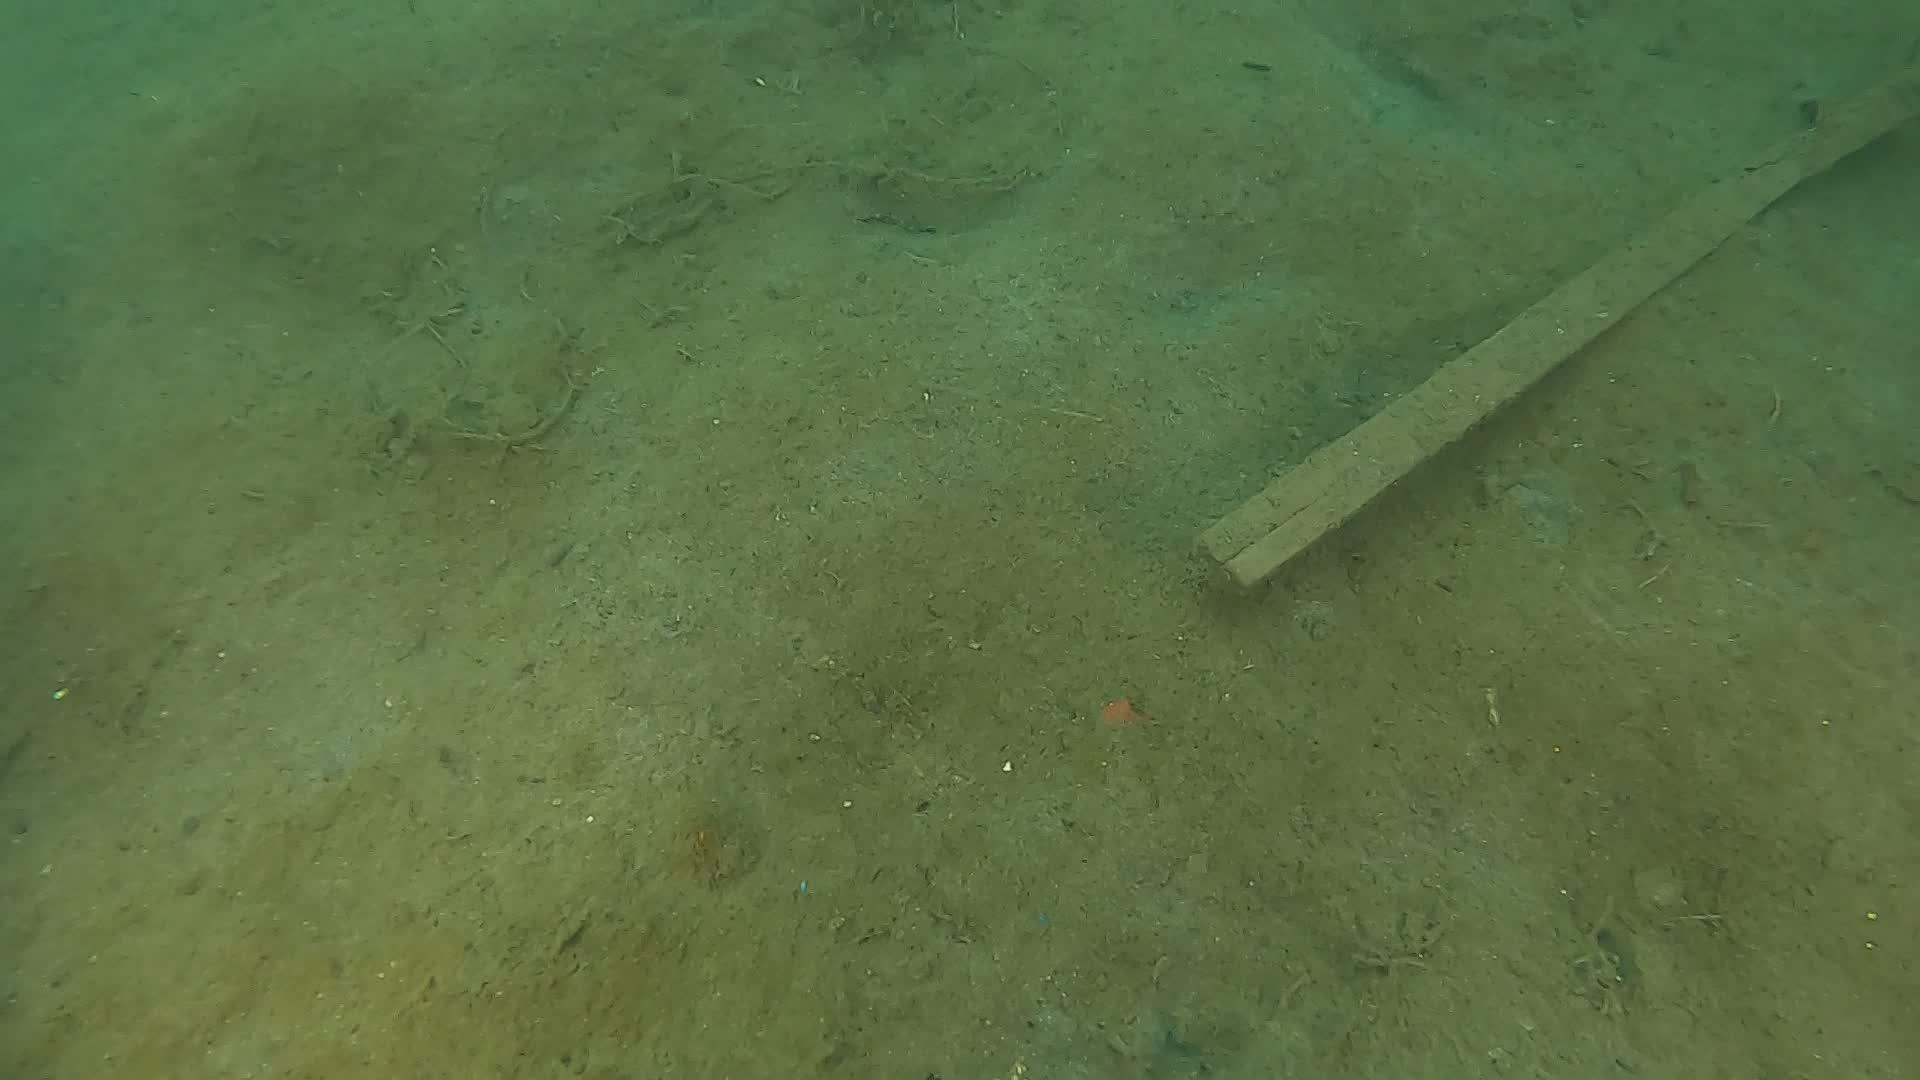wood: (1191, 55, 1920, 593)
